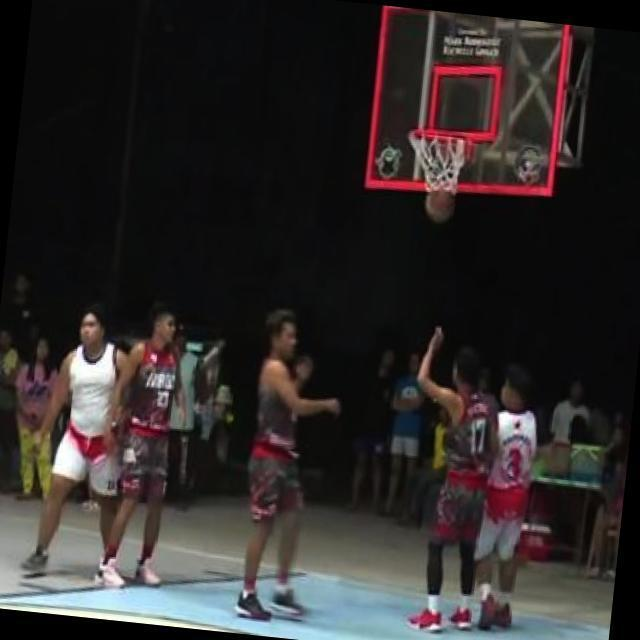ball: (416, 174, 461, 236)
hoop: (411, 128, 471, 144)
